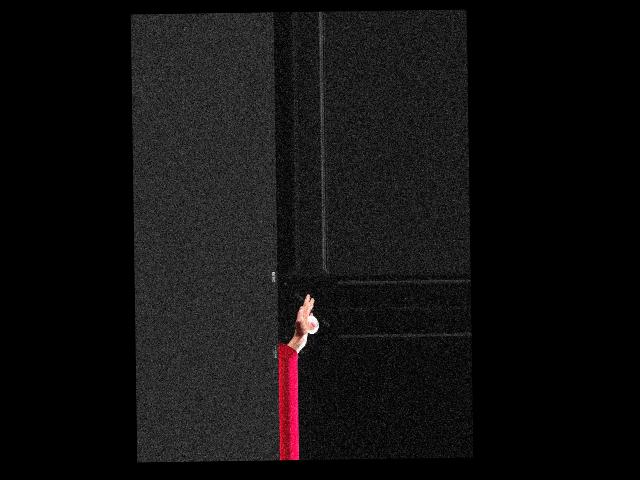egg: (306, 316, 318, 334)
